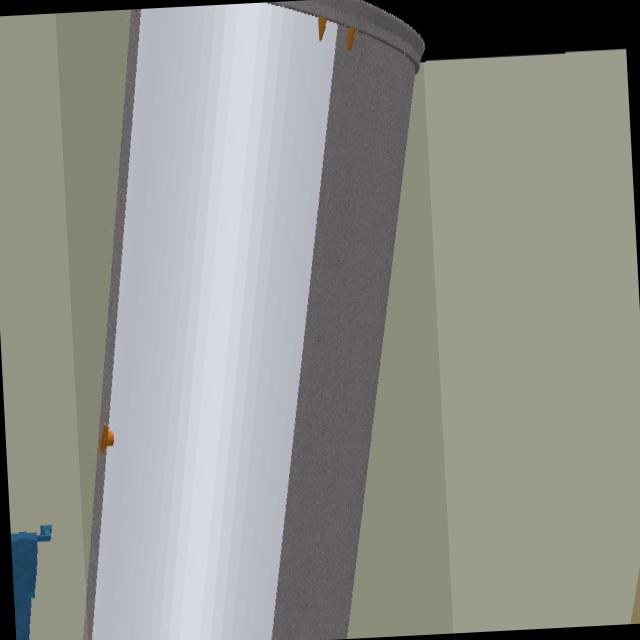shower: (90, 0, 423, 640)
